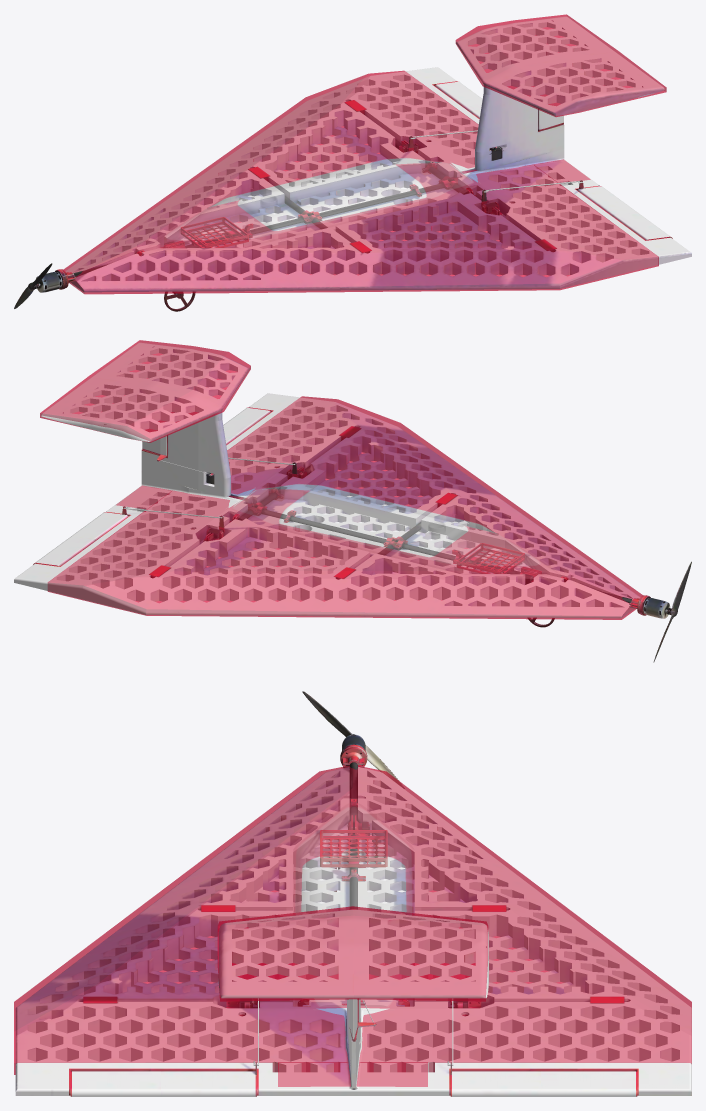
Rendered from micro-2025.glb.
3 views of the same model, one above another, from view 1: azimuth 30°, elevation 25°; view 2: azimuth 150°, elevation 25°; view 3: azimuth 270°, elevation 25° (orthographic). The views are drawn at different scales.
Visible parts, largest first — view 1: RadioactiveAssembly v1, Cube, tank; view 2: RadioactiveAssembly v1, Cube, tank; view 3: RadioactiveAssembly v1, Cube, tank.
Part boxes in pixels (box(x1,y1,x2,y2)): RadioactiveAssembly v1: box(14, 16, 691, 311); Cube: box(63, 14, 666, 294); tank: box(148, 158, 473, 247); RadioactiveAssembly v1: box(14, 342, 691, 662); Cube: box(40, 340, 642, 619); tank: box(232, 484, 561, 576); RadioactiveAssembly v1: box(15, 691, 691, 1096); Cube: box(14, 765, 691, 1086); tank: box(294, 802, 412, 1006).
Bounding box in the file's own units: 1.34 × 0.3415 × 1.
4 materials, 1 textured.
